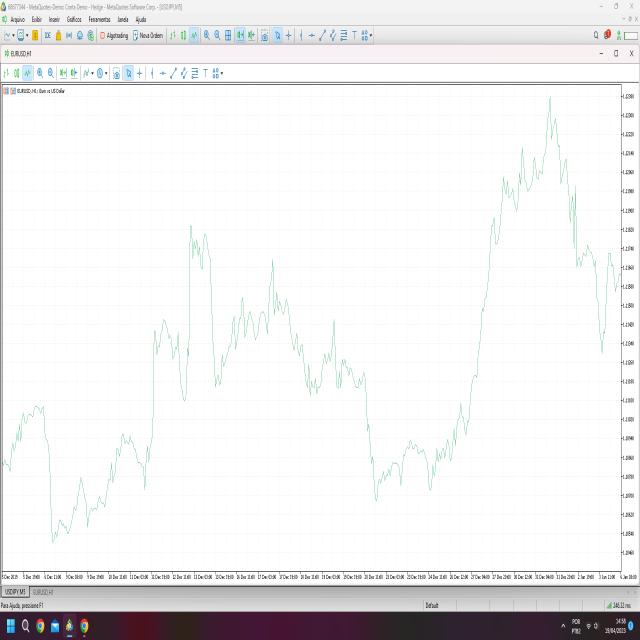bandeira_alta: (134, 302, 180, 485)
bandeira_baixa: (354, 350, 398, 512)
fundo_duplo: (37, 442, 83, 558)
topo_duplo: (183, 221, 220, 355)
